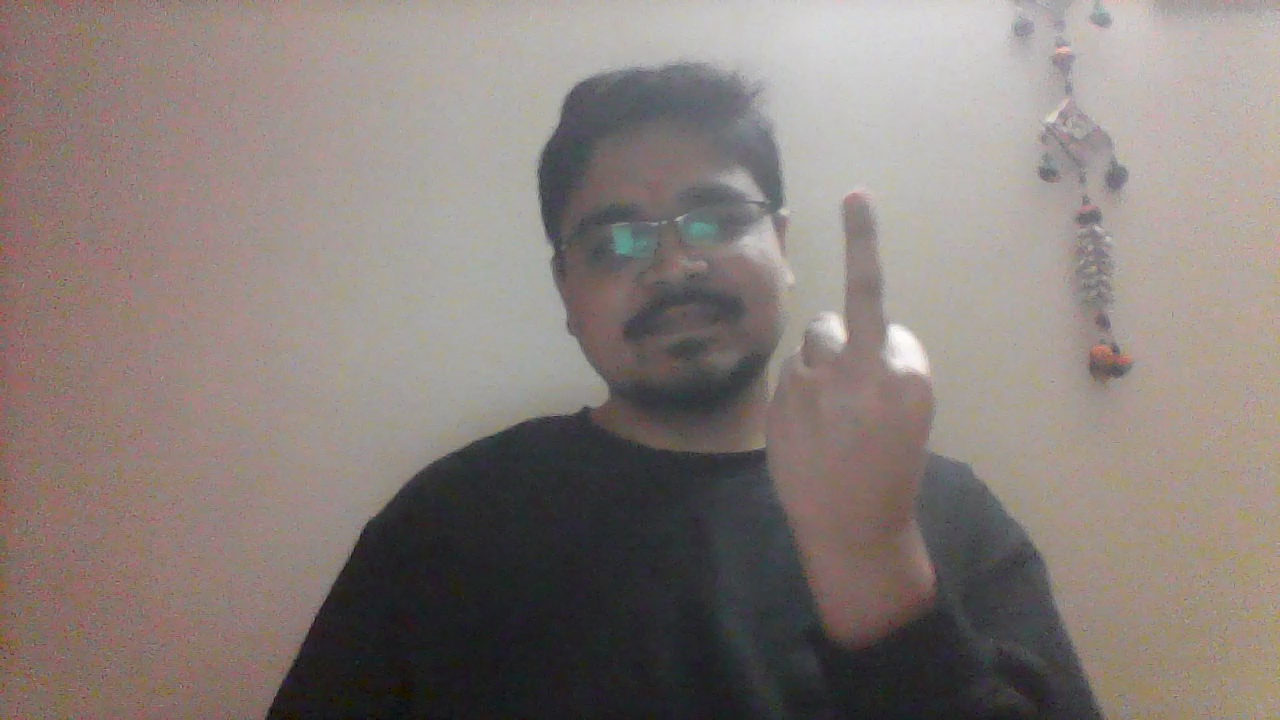Fuck Off: (756, 184, 939, 597)
